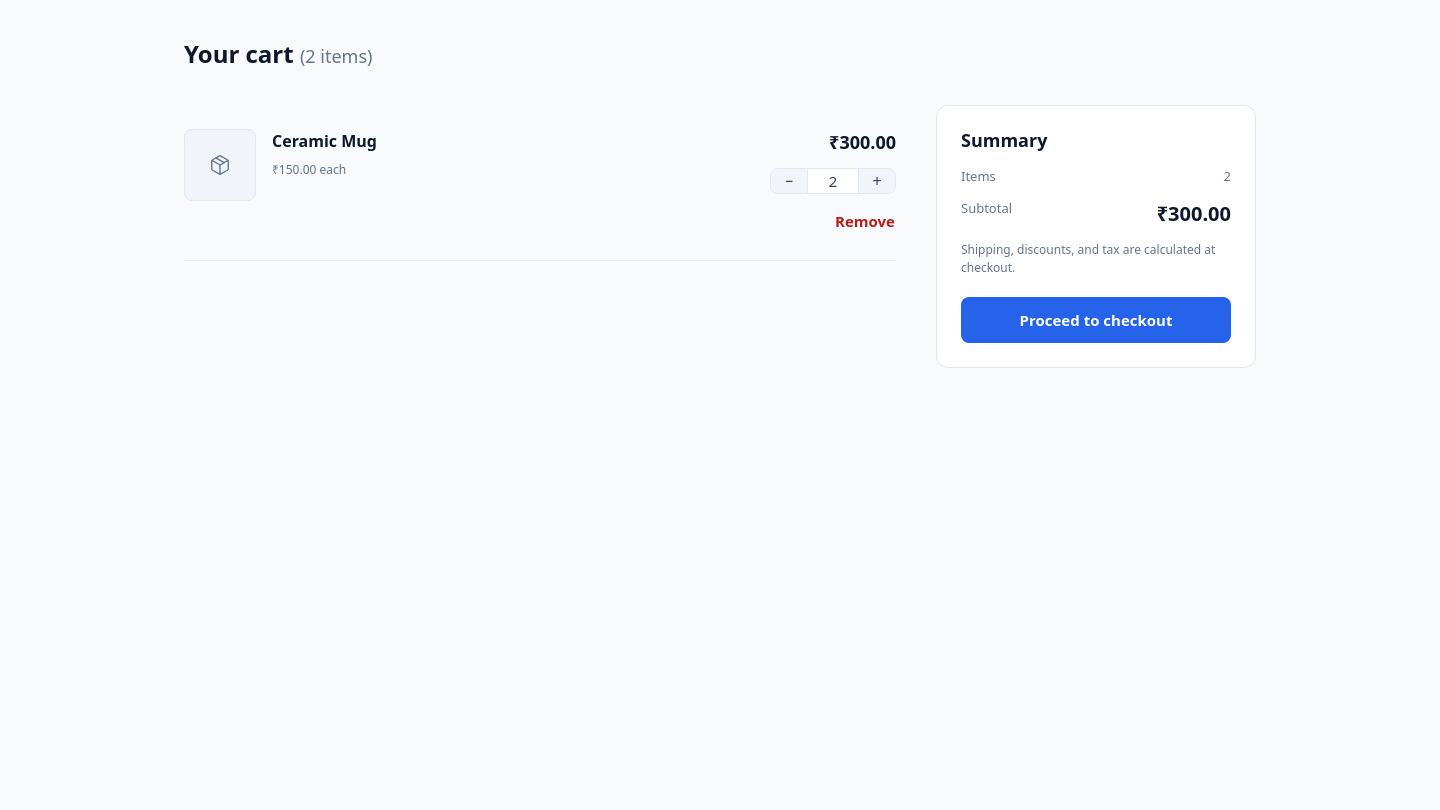
Scenario: CartPage › removes a line via DELETE and updates the subtotal
Expected: the text "Ceramic Mug" is shown, [272,130,377,152]
Click the button "Remove" at (865, 221), box [834,206,896,236]
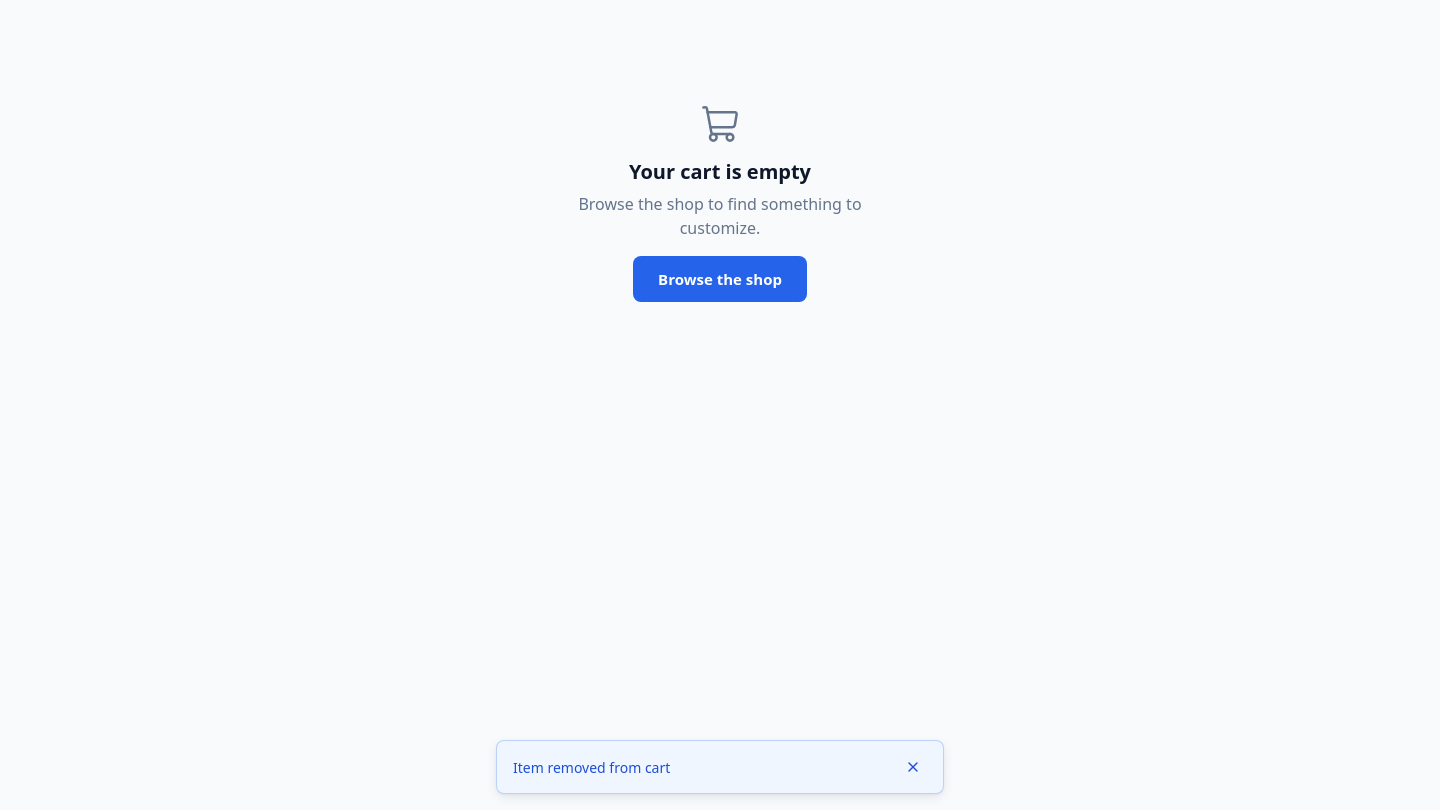
Expected: the heading "Your cart is empty" is shown, [629,160,811,184]
